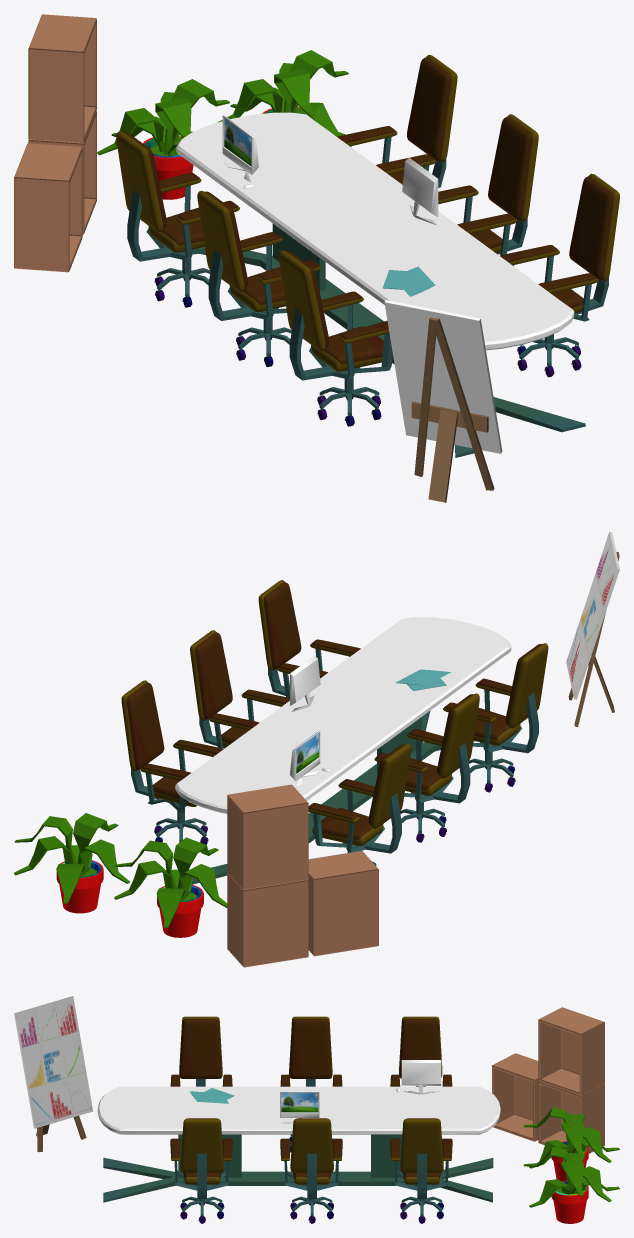
The model's file is meeting room.fbx.
The picture shows the model from 3 angles, top to bottom: view 1: azimuth 30°, elevation 25°; view 2: azimuth 150°, elevation 25°; view 3: azimuth 270°, elevation 25°; orthographic projection. The views are drawn at different scales.
Visible parts, largest first — view 1: model1:meeting_room; view 2: model1:meeting_room; view 3: model1:meeting_room.
Part boxes in pixels (<box>): model1:meeting_room: <box>14,14,619,502</box>; model1:meeting_room: <box>14,531,619,967</box>; model1:meeting_room: <box>14,996,619,1223</box>.
Bounding box in the file's own units: 953 × 470 × 1934.
3 materials, 3 textured.
